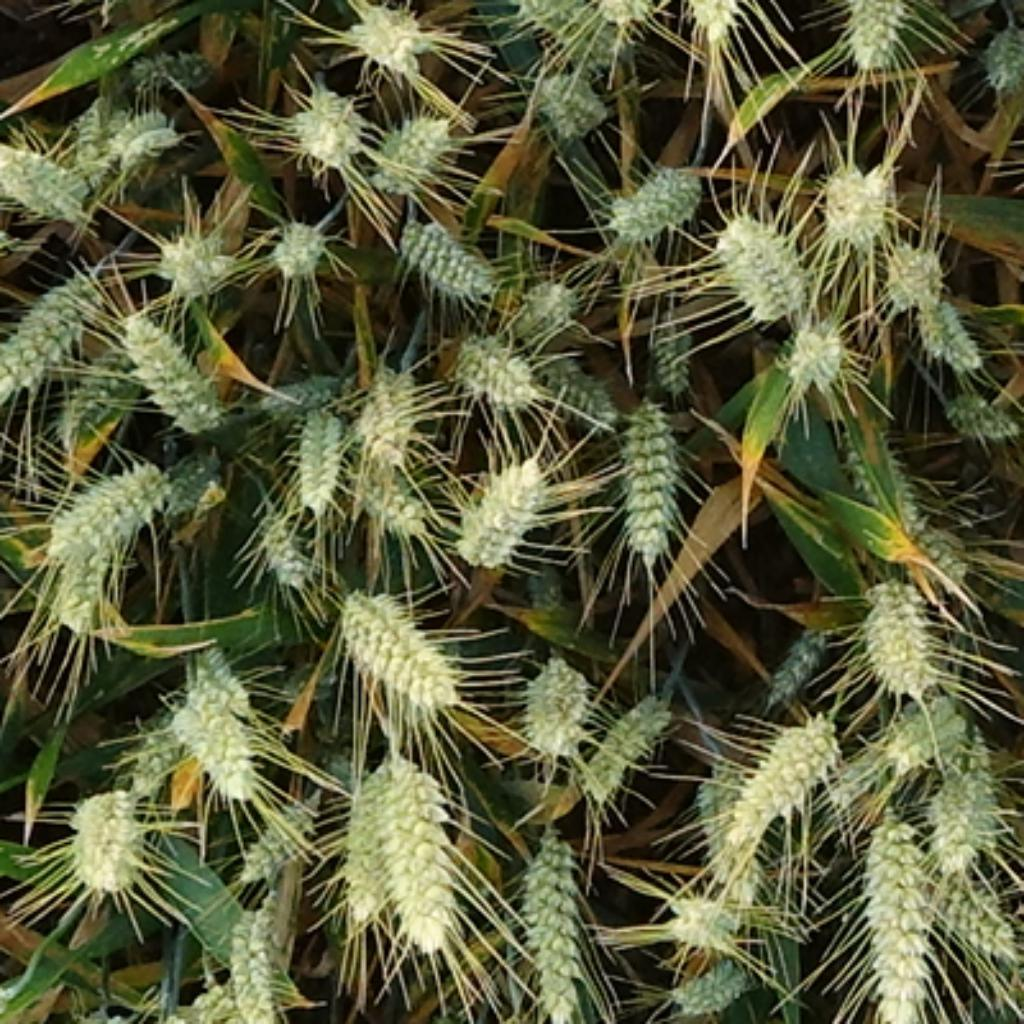0-0: (363, 744, 468, 962), (38, 442, 179, 573), (335, 583, 468, 721), (855, 816, 939, 1024), (512, 828, 599, 1024), (724, 711, 842, 855), (110, 299, 230, 430), (834, 414, 939, 555), (2, 258, 107, 391), (706, 194, 814, 317), (609, 391, 688, 552), (450, 445, 555, 565), (332, 757, 399, 936), (852, 563, 944, 688), (56, 770, 153, 888), (578, 680, 673, 793), (389, 202, 499, 296), (174, 688, 268, 793), (698, 757, 765, 901), (916, 775, 1000, 888), (604, 148, 709, 238), (225, 896, 294, 1024), (514, 642, 593, 752), (931, 860, 1018, 957), (811, 145, 896, 243), (870, 686, 975, 765), (2, 125, 92, 217), (350, 353, 424, 463), (504, 0, 629, 64), (448, 317, 537, 404), (368, 99, 455, 186), (281, 74, 363, 163), (235, 791, 317, 880), (524, 53, 611, 133), (153, 215, 240, 294), (56, 345, 138, 427), (345, 448, 427, 529), (104, 102, 199, 171), (286, 401, 348, 506), (890, 514, 977, 588), (757, 611, 832, 696), (340, 0, 432, 69), (906, 284, 983, 366), (775, 304, 852, 386), (535, 340, 616, 417), (248, 496, 317, 586), (660, 875, 744, 947), (125, 698, 184, 798), (663, 949, 757, 1011), (46, 550, 110, 640), (186, 637, 253, 721), (69, 94, 133, 181), (122, 40, 222, 94), (834, 0, 916, 64), (256, 360, 345, 417), (506, 263, 581, 330), (158, 442, 225, 517), (878, 230, 947, 302), (936, 378, 1021, 435), (637, 309, 696, 391), (265, 209, 334, 275), (179, 977, 266, 1024), (977, 7, 1024, 87), (663, 0, 747, 35), (524, 558, 573, 616), (586, 0, 663, 28), (1018, 701, 1024, 775), (1021, 156, 1024, 273), (104, 0, 227, 2), (1018, 0, 1024, 23)
